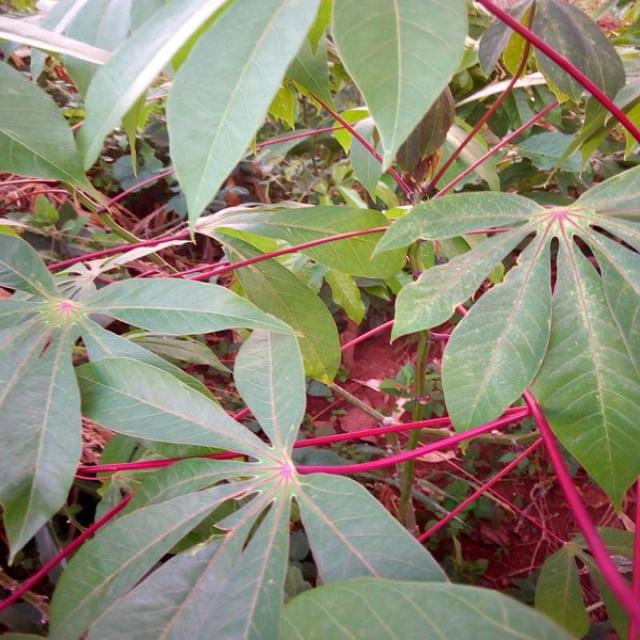cassava leaf: (0, 0, 638, 638), (164, 0, 321, 243), (528, 230, 638, 516), (440, 227, 553, 453), (330, 0, 468, 175)
